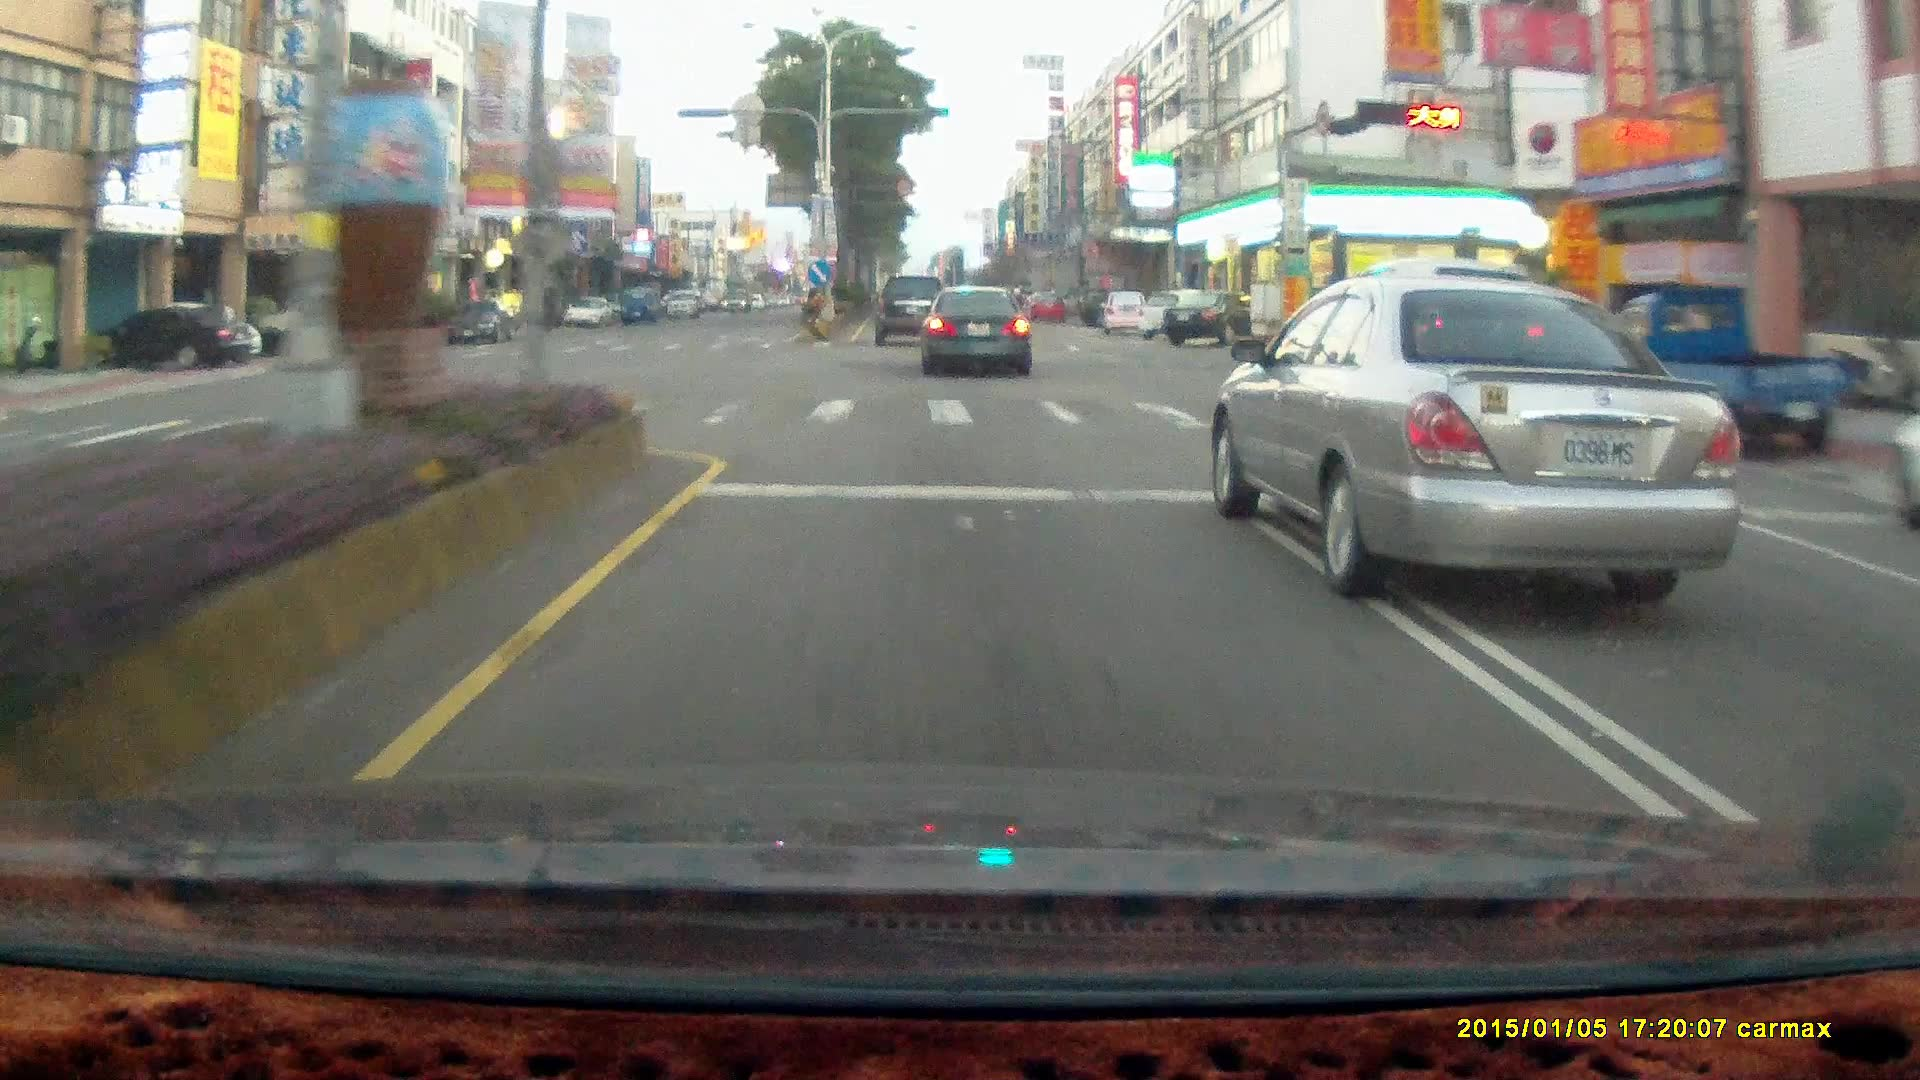pedestrian: (537, 283, 557, 334)
vehicle: (1208, 274, 1739, 591), (1601, 281, 1840, 456), (1320, 261, 1572, 426), (1599, 280, 1838, 452), (922, 284, 1034, 382), (79, 306, 251, 369), (106, 302, 259, 370), (920, 283, 1031, 377), (252, 289, 397, 354), (270, 291, 403, 360), (872, 272, 952, 349), (1161, 288, 1269, 344), (875, 274, 951, 345), (1166, 291, 1258, 348), (1887, 409, 1920, 532), (1135, 290, 1209, 341), (442, 300, 515, 352), (1095, 289, 1148, 334), (448, 305, 512, 343), (1073, 286, 1133, 326), (1101, 290, 1150, 338), (562, 296, 616, 330), (564, 295, 612, 326), (1024, 291, 1062, 323), (621, 289, 656, 321), (657, 290, 690, 316)
